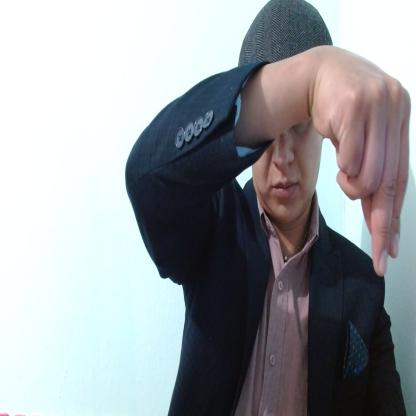N: (311, 45, 412, 276)
